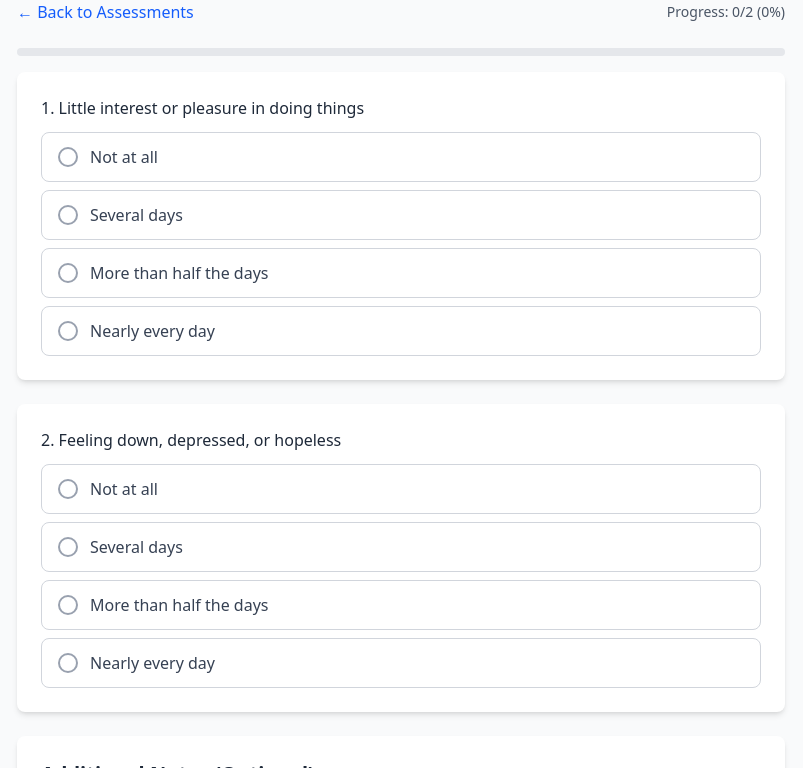
AssessmentForm › Form Validation › should enable submit button when all questions answered
The image size is (803, 768).
Note: Answer both questions
Click the 1st radio button labelled "Not at all" at (124, 157), box x1=41 y1=132 x2=761 y2=182
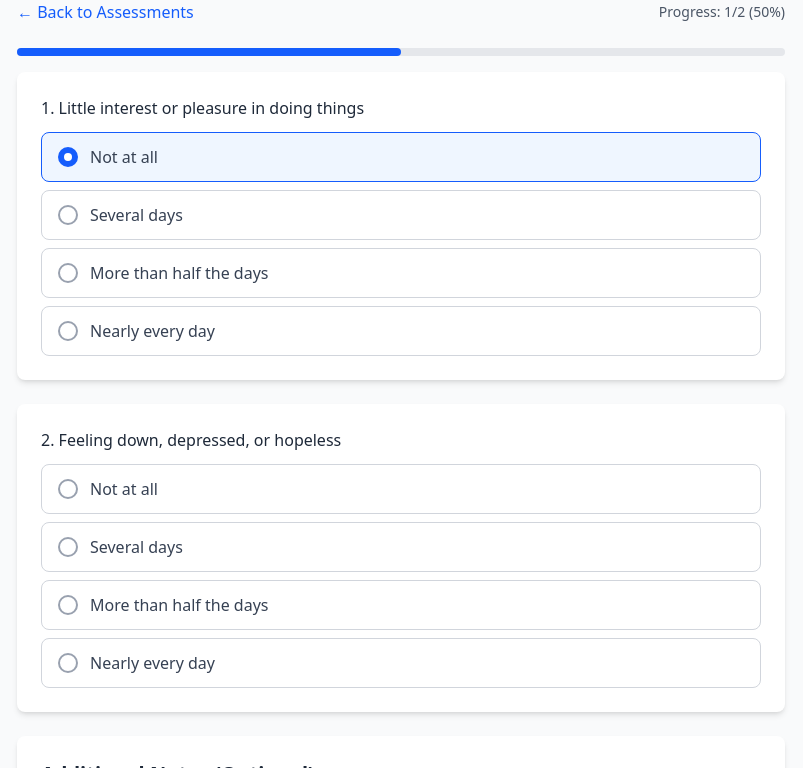
Click the radio button labelled "Not at all" below "2. Feeling down, depressed, or hopeless" at (124, 489), box x1=41 y1=464 x2=761 y2=514
(page scrolled)
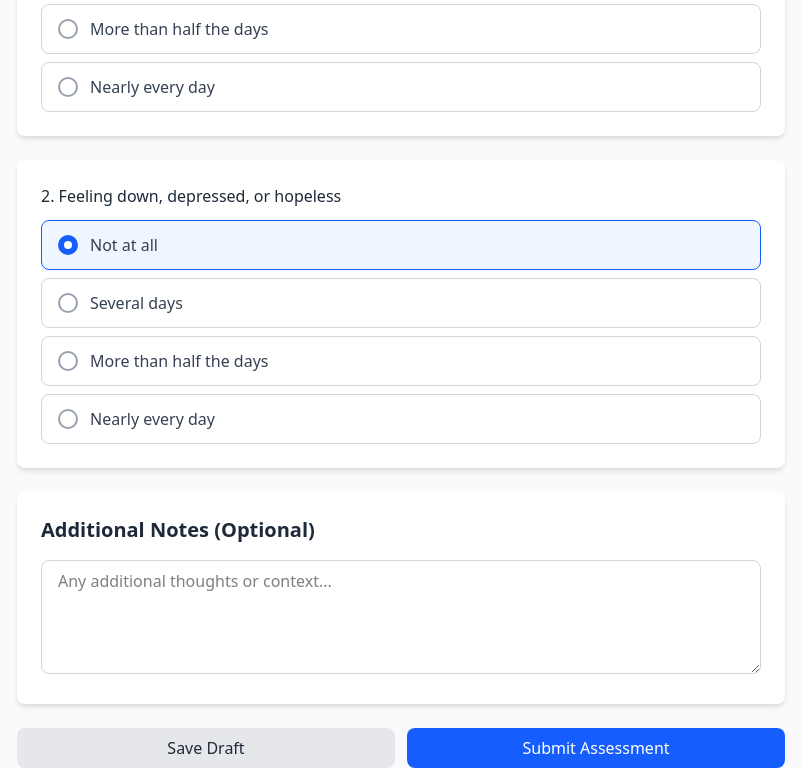
Expected: the submit button is enabled, x1=407 y1=728 x2=785 y2=767
